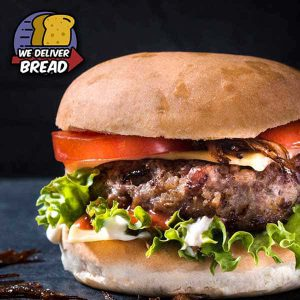hamburger_buns: (46, 55, 300, 290)
